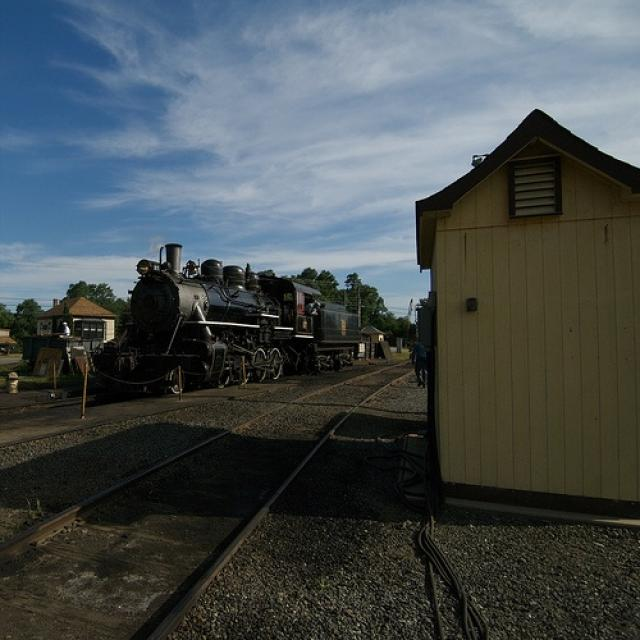train: (100, 240, 367, 396)
